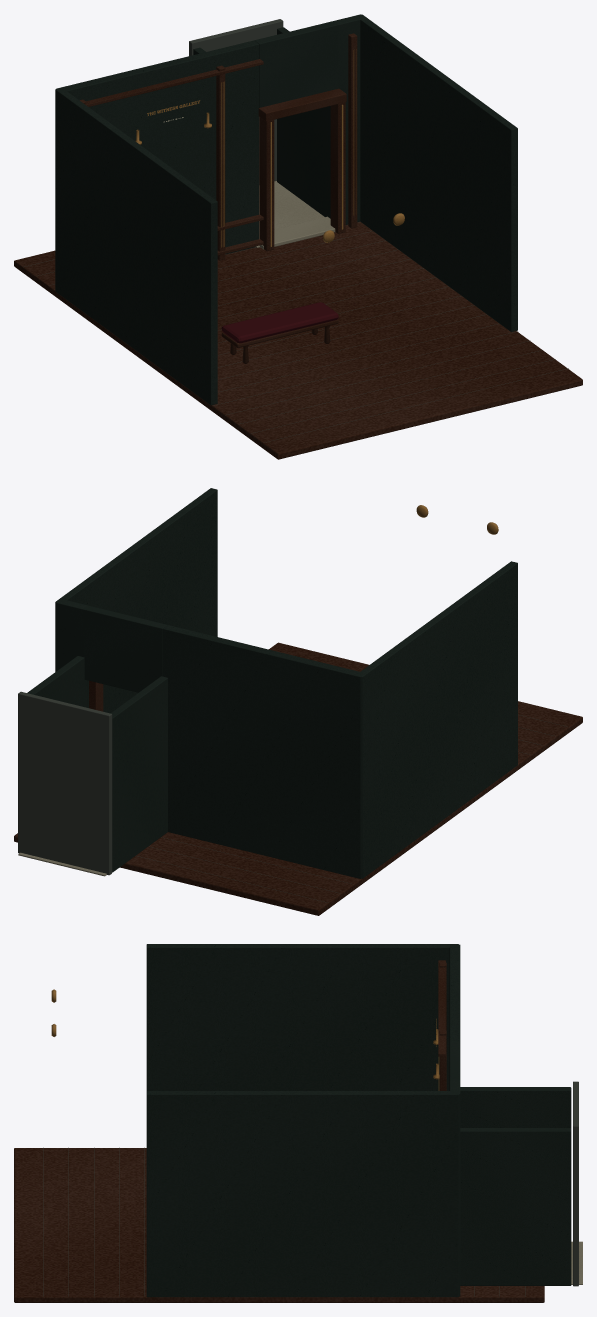
Rendered from witness-gallery.glb.
3 renders of one model, top to bottom at view 1: azimuth 30°, elevation 25°; view 2: azimuth 150°, elevation 25°; view 3: azimuth 270°, elevation 25°, orthographic.
Parts seen in each view (by area): view 1: Portrait_Gallery / Museum green, Portrait_Gallery / Walnut, Portrait_Gallery / Engraved charcoal, Portrait_Gallery / Warm limestone, Portrait_Gallery / Aged brass, Witness bench seat; view 2: Portrait_Gallery / Museum green, Portrait_Gallery / Engraved charcoal, Portrait_Gallery / Walnut; view 3: Portrait_Gallery / Museum green, Portrait_Gallery / Walnut, Portrait_Gallery / Engraved charcoal.
Part boxes in pixels (box(x1,y1,x2,y2)): Portrait_Gallery / Museum green: box(55, 14, 517, 405); Portrait_Gallery / Walnut: box(14, 33, 582, 459); Portrait_Gallery / Engraved charcoal: box(23, 19, 568, 442); Portrait_Gallery / Warm limestone: box(255, 181, 335, 249); Portrait_Gallery / Aged brass: box(135, 49, 404, 247); Witness bench seat: box(221, 302, 338, 343); Portrait_Gallery / Museum green: box(27, 488, 517, 878); Portrait_Gallery / Engraved charcoal: box(18, 691, 567, 902); Portrait_Gallery / Walnut: box(14, 642, 582, 915); Portrait_Gallery / Museum green: box(146, 944, 571, 1297); Portrait_Gallery / Walnut: box(14, 960, 544, 1302); Portrait_Gallery / Engraved charcoal: box(43, 1081, 578, 1296).
Size of the model in its own units: 6.04 by 3.92 by 9.65.
7 materials, 6 textured.
